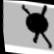not correct: (15, 1, 54, 52)
